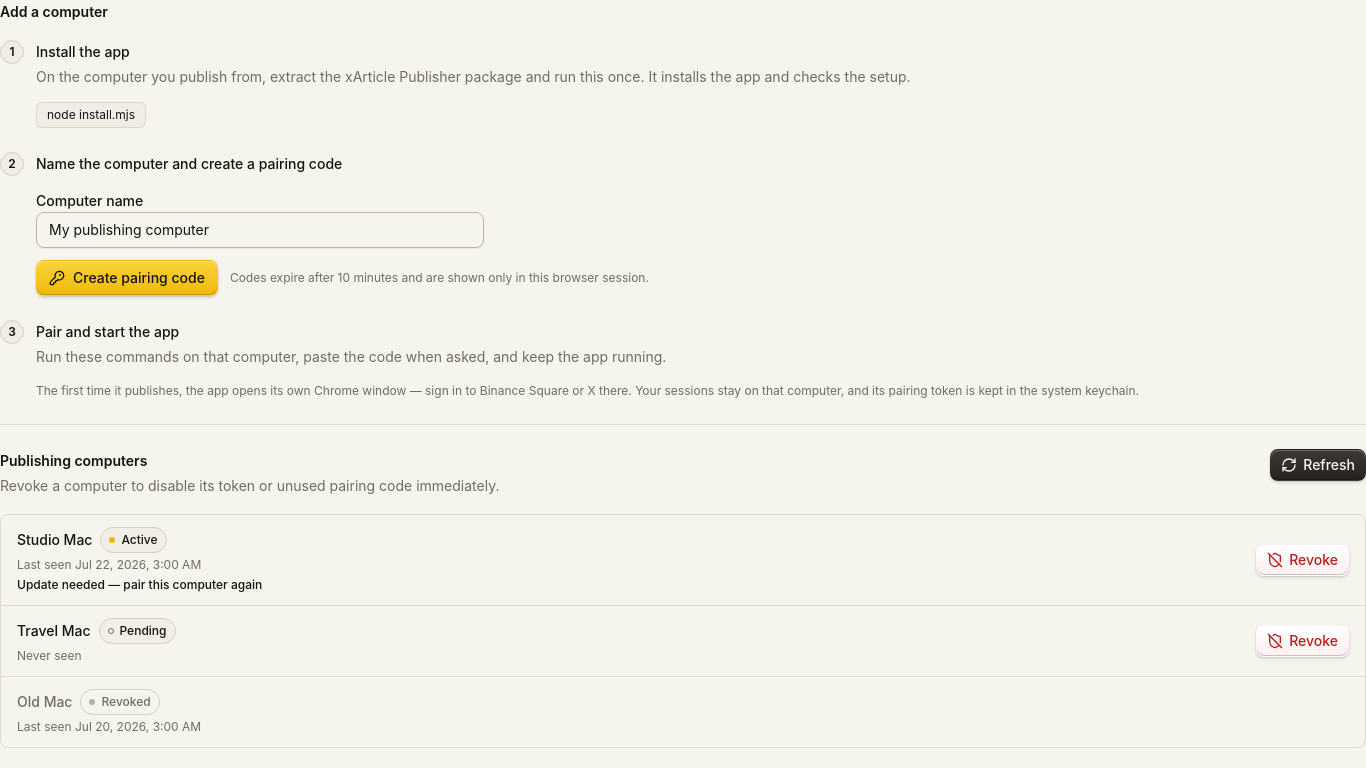
Test: PublisherDevicePairingCard › shows device status, last seen, name, and protocol and revokes active or pending devices
The width and height of the screenshot is (1366, 768).
Expected: the text "Active" is shown, [121,530,158,550]
Expected: the text "Update needed — pair this computer again" is shown, [17,577,262,592]
Click the button with aria-label "Revoke Studio Mac" at (1303, 560), box [1256,544,1349,576]
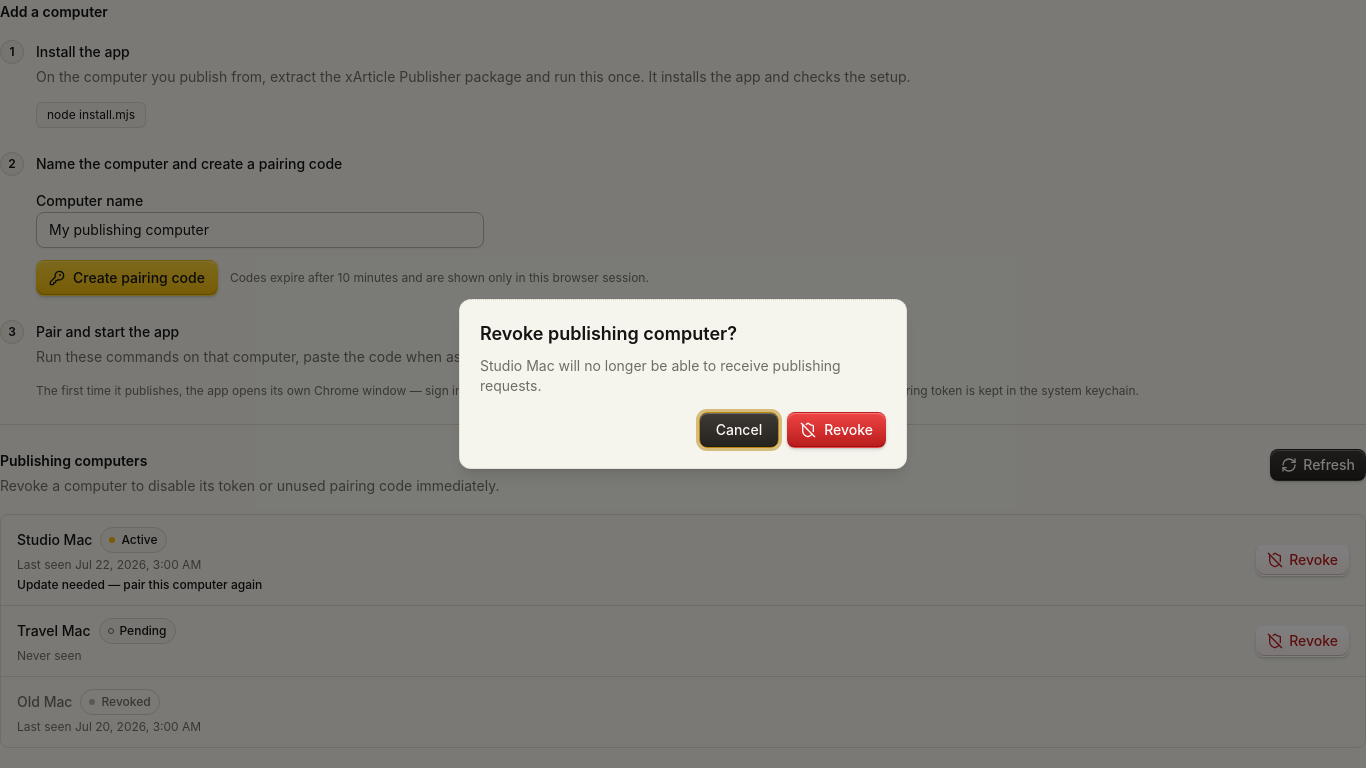
Result: the dialog shows "Revoke"
Result: the dialog shows "Studio Mac" at [480,357,841,394]
Click the button "Revoke" at (837, 430), box [787,412,886,448]
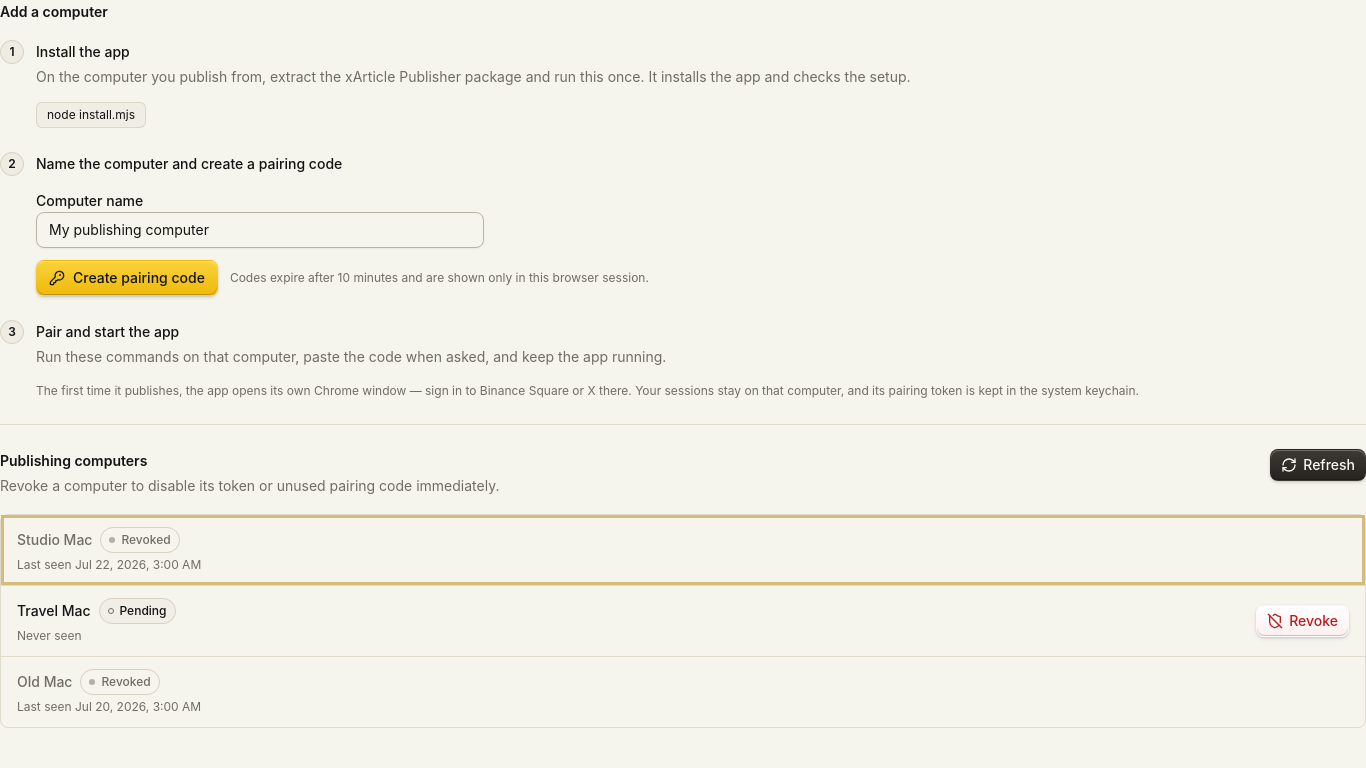
Result: the text "Revoked" next to "Studio Mac" is shown at [121,532,171,547]
